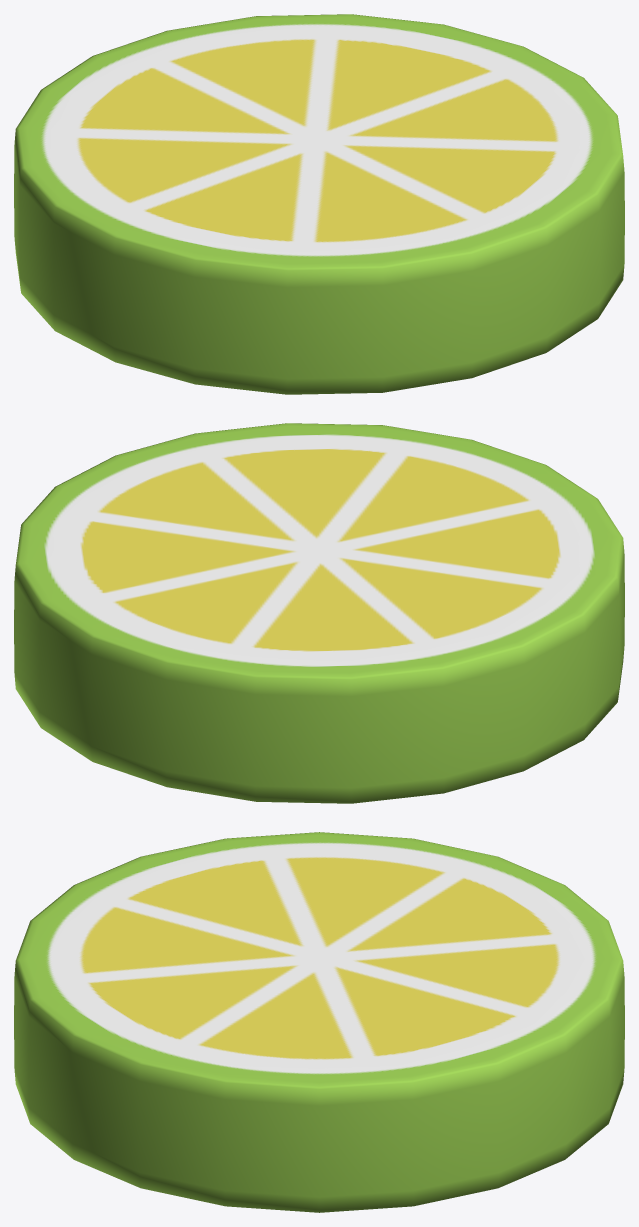
File: lime.FBX
3 renders of one model, top to bottom at view 1: azimuth 30°, elevation 25°; view 2: azimuth 150°, elevation 25°; view 3: azimuth 270°, elevation 25°, orthographic.
Parts seen in each view (by area): view 1: Cylinder001; view 2: Cylinder001; view 3: Cylinder001.
Part boxes in pixels (x1,y1,x2,y2): Cylinder001: (14, 14, 624, 394); Cylinder001: (14, 423, 624, 803); Cylinder001: (14, 832, 624, 1212).
Bounding box in the file's own units: 198 × 45.4 × 198.
